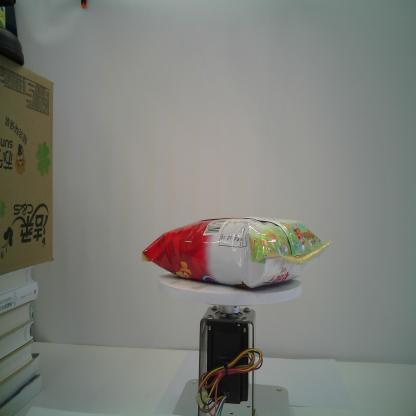Puffed Food: (141, 216, 332, 290)
